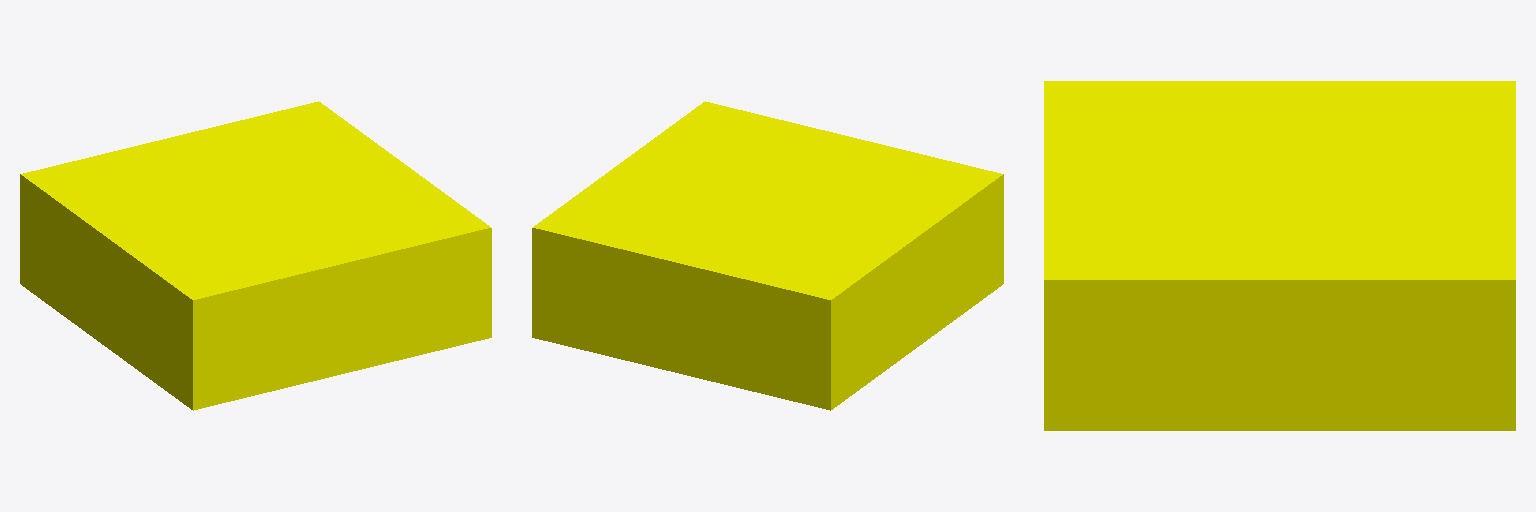
URDF robot description (my_phantom):
<robot name="my_phantom">
	<link name="base_link">
		<visual>
			<geometry>
				<!-- Unit : Inch -->
				<!-- <box size="8.5 8.5 3"/> -->
				<!-- Unit : Meter -->
				<box size="0.2159 0.2159 0.0762" />
			</geometry>
			<material name="yellow">
				<color rgba="255 255 0 0.5" />
			</material>
			<origin rpy="0 0 0" xyz="0.5 0 0.0381" />
		</visual>
	</link>
</robot>

--- Render facts (derived) ---
3 views of the same robot in one strip: view 1: azimuth 30°, elevation 25°; view 2: azimuth 150°, elevation 25°; view 3: azimuth 270°, elevation 25° (orthographic).
Robot: my_phantom — 1 links, 0 joints (none); root link base_link; default pose: every joint at zero.
Links seen in each view (by area): view 1: base_link; view 2: base_link; view 3: base_link.
Link boxes in pixels (<box>): base_link: <box>20,101,491,410</box>; base_link: <box>532,101,1003,410</box>; base_link: <box>1044,81,1515,430</box>.
Size in the robot's own frame: 0.2159 by 0.2159 by 0.0762 metres.
Geometry: primitives only (box / cylinder / sphere), no mesh files.